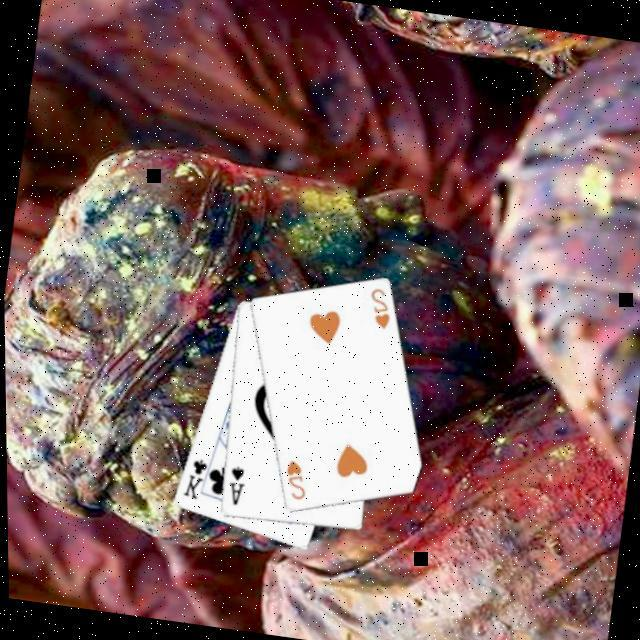2H: (361, 282, 396, 331), (276, 454, 311, 502)
AS: (220, 461, 248, 508)
KC: (177, 450, 215, 503)
